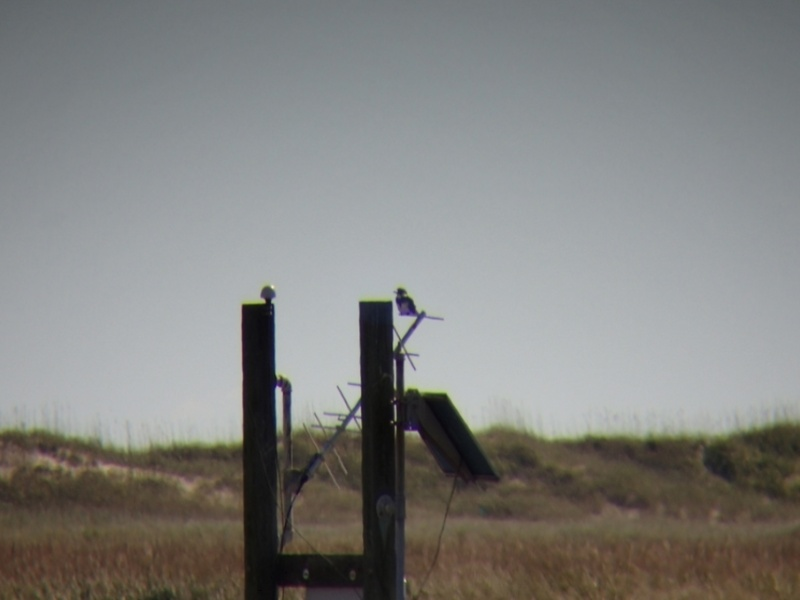kingfisher: (393, 286, 421, 318)
